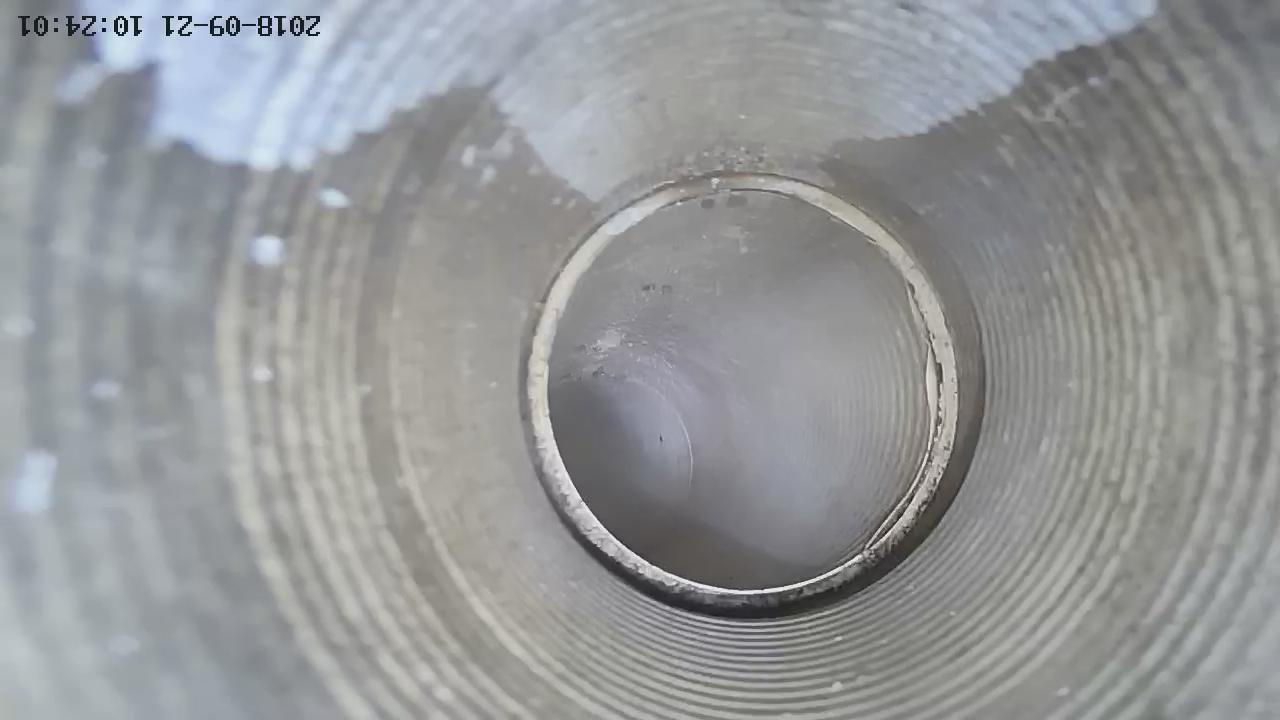CKTJ: (525, 175, 959, 608)
